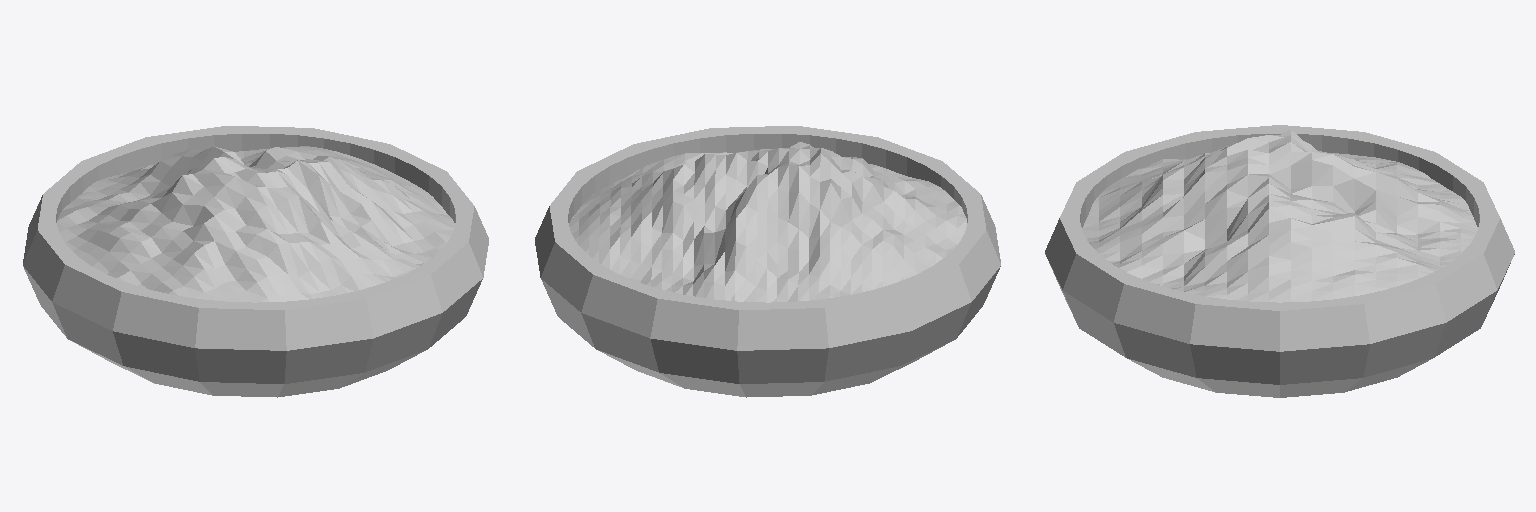
File: guac2.obj
The picture shows the model from 3 angles: view 1: azimuth 30°, elevation 25°; view 2: azimuth 150°, elevation 25°; view 3: azimuth 270°, elevation 25°; orthographic projection.
Visible parts, largest first — view 1: bowl, guac; view 2: bowl, guac; view 3: bowl, guac.
Part boxes in pixels (x1,y1,x2,y2): bowl: (23, 126, 488, 397); guac: (57, 146, 454, 302); bowl: (535, 126, 1000, 397); guac: (569, 142, 966, 302); bowl: (1045, 125, 1514, 397); guac: (1082, 129, 1477, 302).
Size of the model in its own units: 2 by 0.9652 by 2.